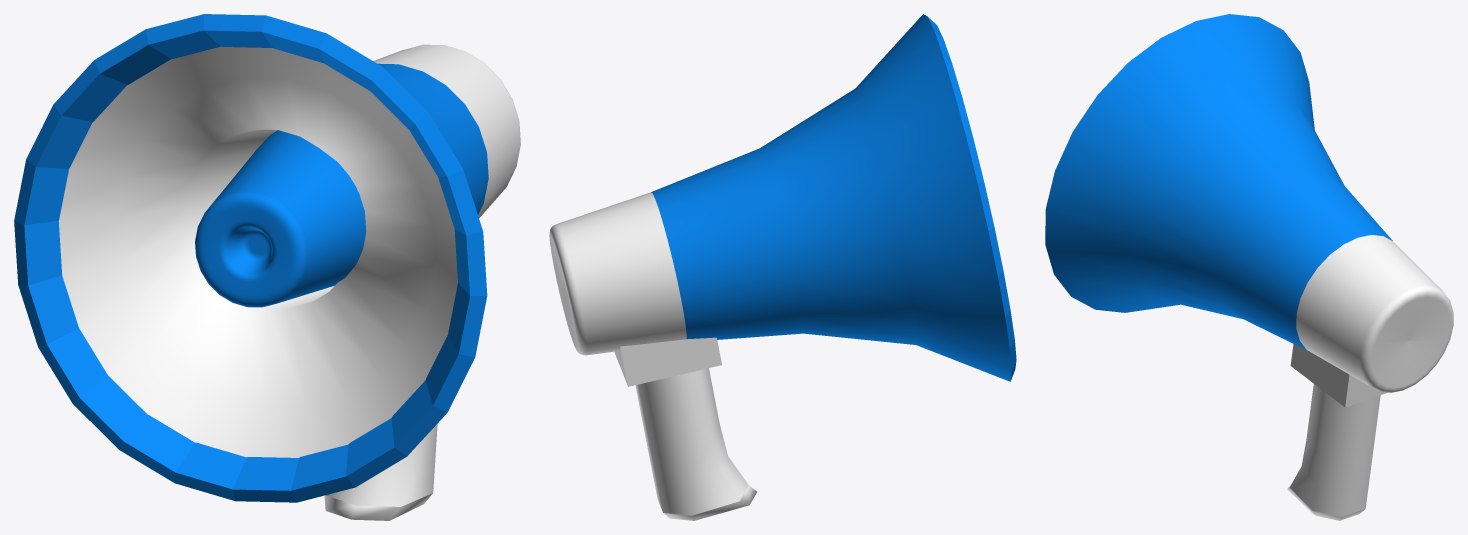
Rendered from Megaphone fbx.fbx.
3 renders of one model, left to right at view 1: azimuth 30°, elevation 25°; view 2: azimuth 150°, elevation 25°; view 3: azimuth 270°, elevation 25°, orthographic. The views are drawn at different scales.
Visible parts, largest first — view 1: Cone002, Cone001, Cone003, Object, Cylinder001; view 2: Cone001, Object, Cylinder001, Box001; view 3: Cone001, Object, Cylinder001, Box001.
Boxes of the visible parts, x1,y1,x2,y2 form: Cone002: (58, 46, 457, 457); Cone001: (14, 14, 488, 502); Cone003: (195, 130, 366, 307); Object: (373, 44, 520, 218); Cylinder001: (324, 424, 437, 520); Cone001: (651, 14, 1016, 381); Object: (549, 192, 686, 355); Cylinder001: (635, 368, 756, 520); Box001: (614, 337, 721, 386); Cone001: (1045, 14, 1392, 350); Object: (1296, 235, 1453, 392); Cylinder001: (1287, 384, 1380, 520); Box001: (1290, 344, 1387, 407).
Bounding box in the file's own units: 57.44 × 61.47 × 54.57.
